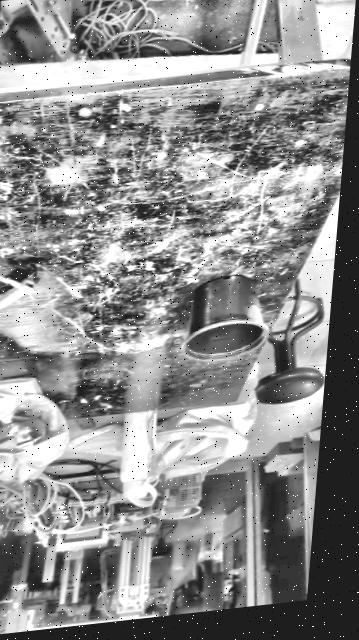pot: (182, 270, 274, 363)
